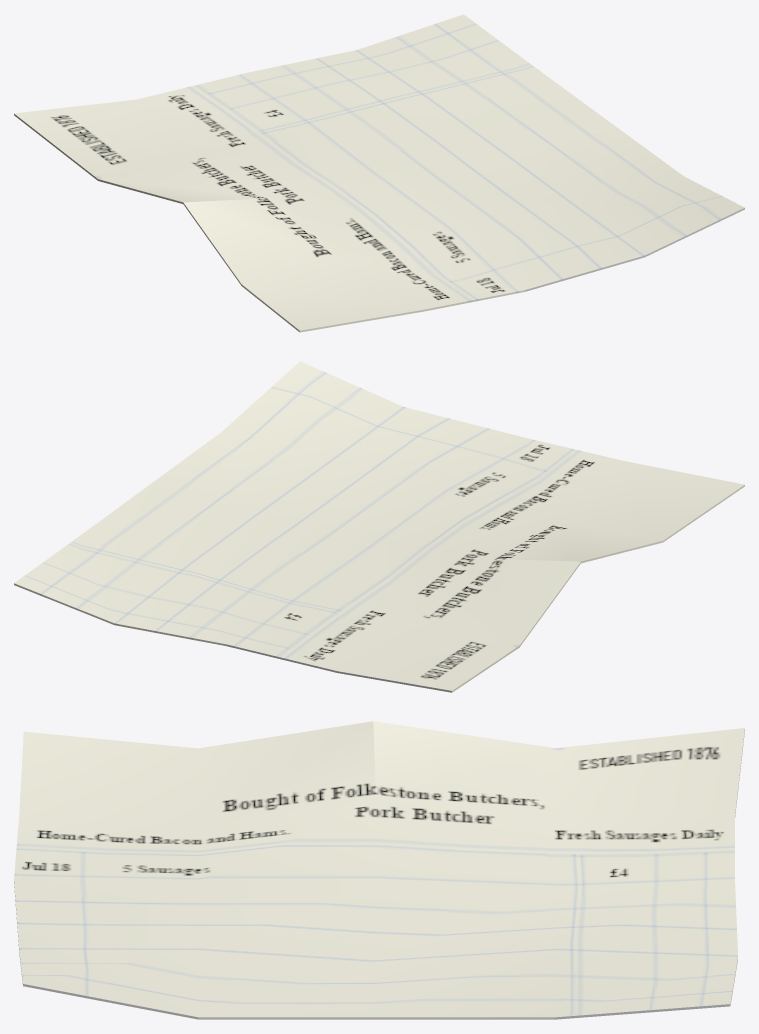
Rendered from butchersReceipt.fbx.
3 views of the same model, one above another, from view 1: azimuth 30°, elevation 25°; view 2: azimuth 150°, elevation 25°; view 3: azimuth 270°, elevation 25° (orthographic). The views are drawn at different scales.
Visible parts, largest first — view 1: butchersReceipt; view 2: butchersReceipt; view 3: butchersReceipt.
Part boxes in pixels (box(x1,y1,x2,y2)): butchersReceipt: box(14, 14, 744, 332); butchersReceipt: box(14, 361, 744, 692); butchersReceipt: box(14, 721, 744, 1019).
Bounding box in the file's own units: 75.71 × 5.69 × 84.64.
